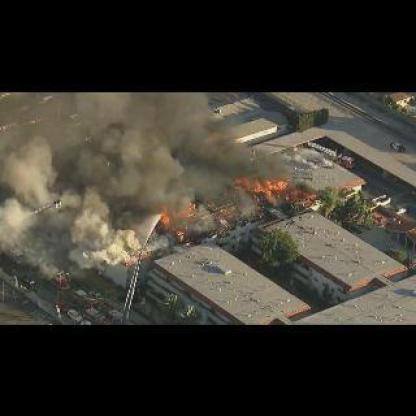fire: (234, 174, 280, 192), (299, 188, 316, 202), (177, 208, 192, 216), (160, 212, 170, 224), (176, 229, 184, 239)
